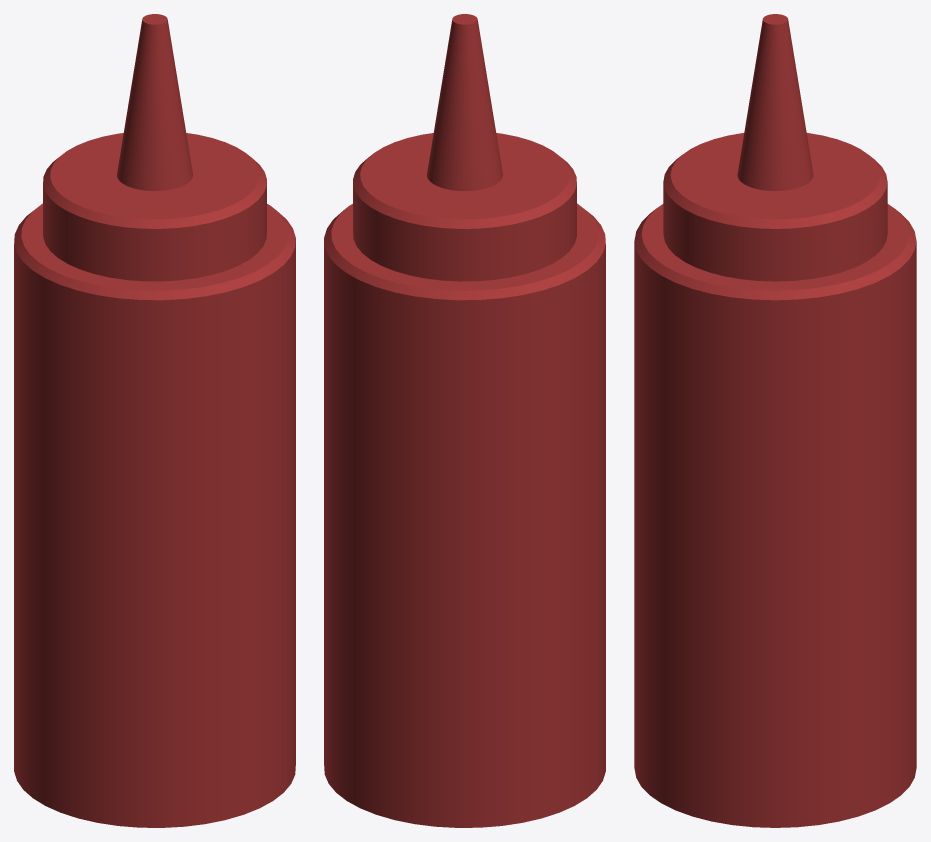
Rendered from SauceBottle_Red.fbx.
3 renders of one model, left to right at view 1: azimuth 30°, elevation 25°; view 2: azimuth 150°, elevation 25°; view 3: azimuth 270°, elevation 25°, orthographic.
Visible parts, largest first — view 1: pCylinder1; view 2: pCylinder1; view 3: pCylinder1.
Boxes of the visible parts, bbox=[...] form: pCylinder1: bbox=[14, 14, 295, 827]; pCylinder1: bbox=[324, 14, 605, 827]; pCylinder1: bbox=[634, 14, 916, 827].
Size of the model in its own units: 2 by 5.86 by 2.
